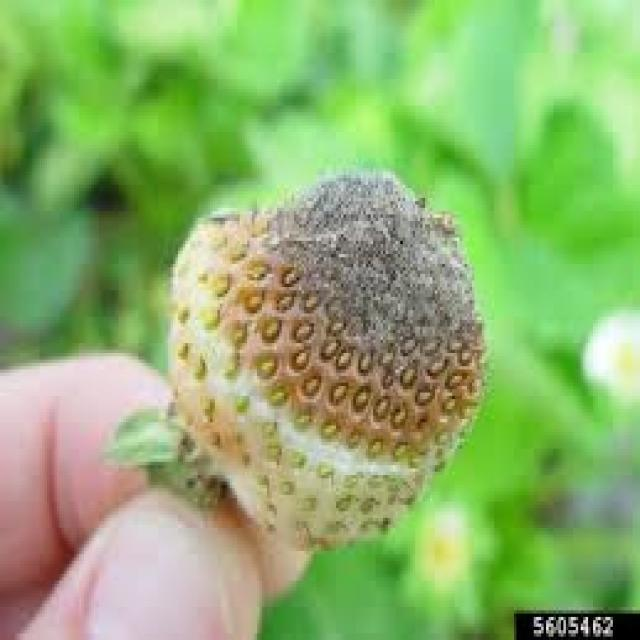Moho gris: (165, 154, 475, 547)
